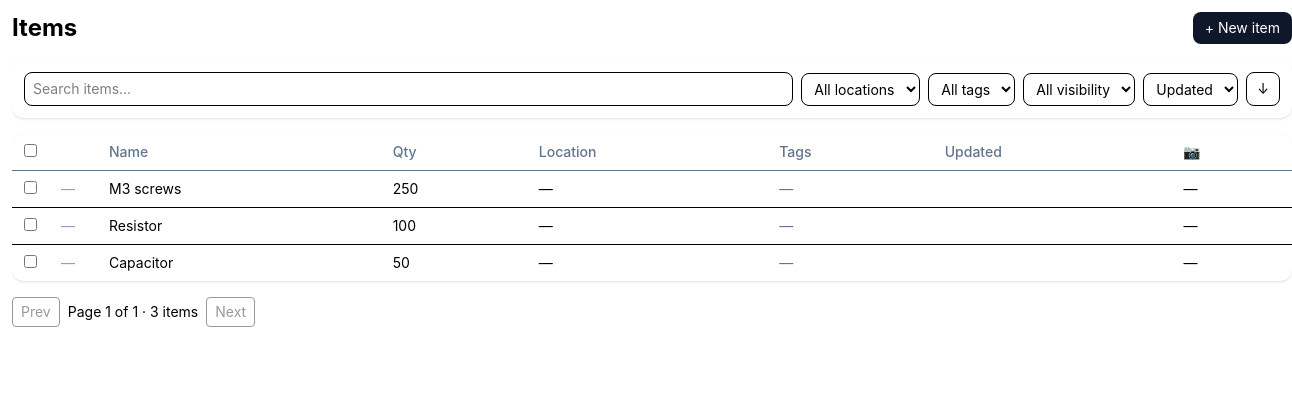
Test: ItemsView › Move is disabled until a target location is chosen (Move to… placeholder)
This screenshot has width=1292, height=418.
Click the checkbox named "Select M3 screws" at [30, 188], box [24, 181, 37, 194]
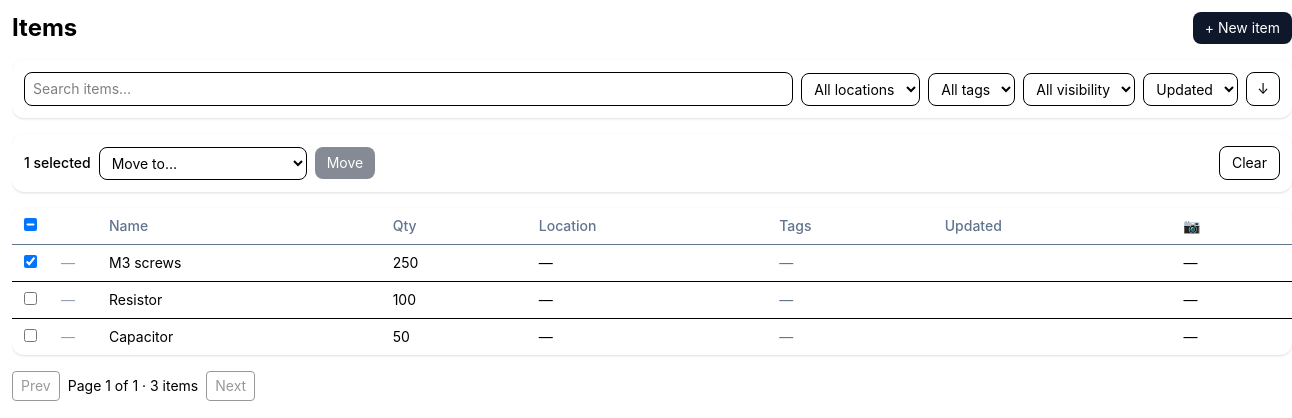
Check: the button "Move" is disabled, box [315, 147, 375, 179]
Check: the dropdown named "Location" shows "Move to…"
Select "No location" in the dropdown named "Location" at [203, 163], box [99, 146, 307, 180]
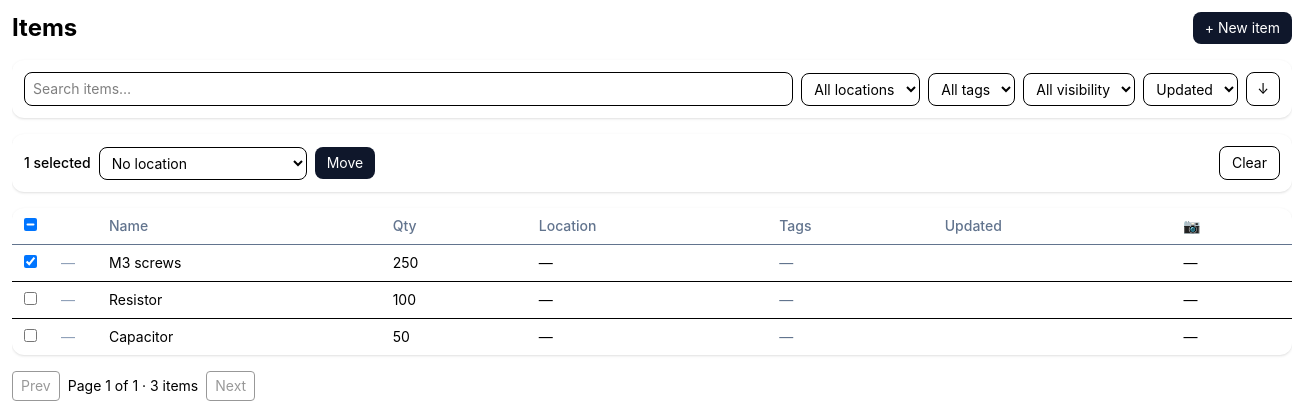
Check: the button "Move" is enabled, box [315, 147, 375, 179]
